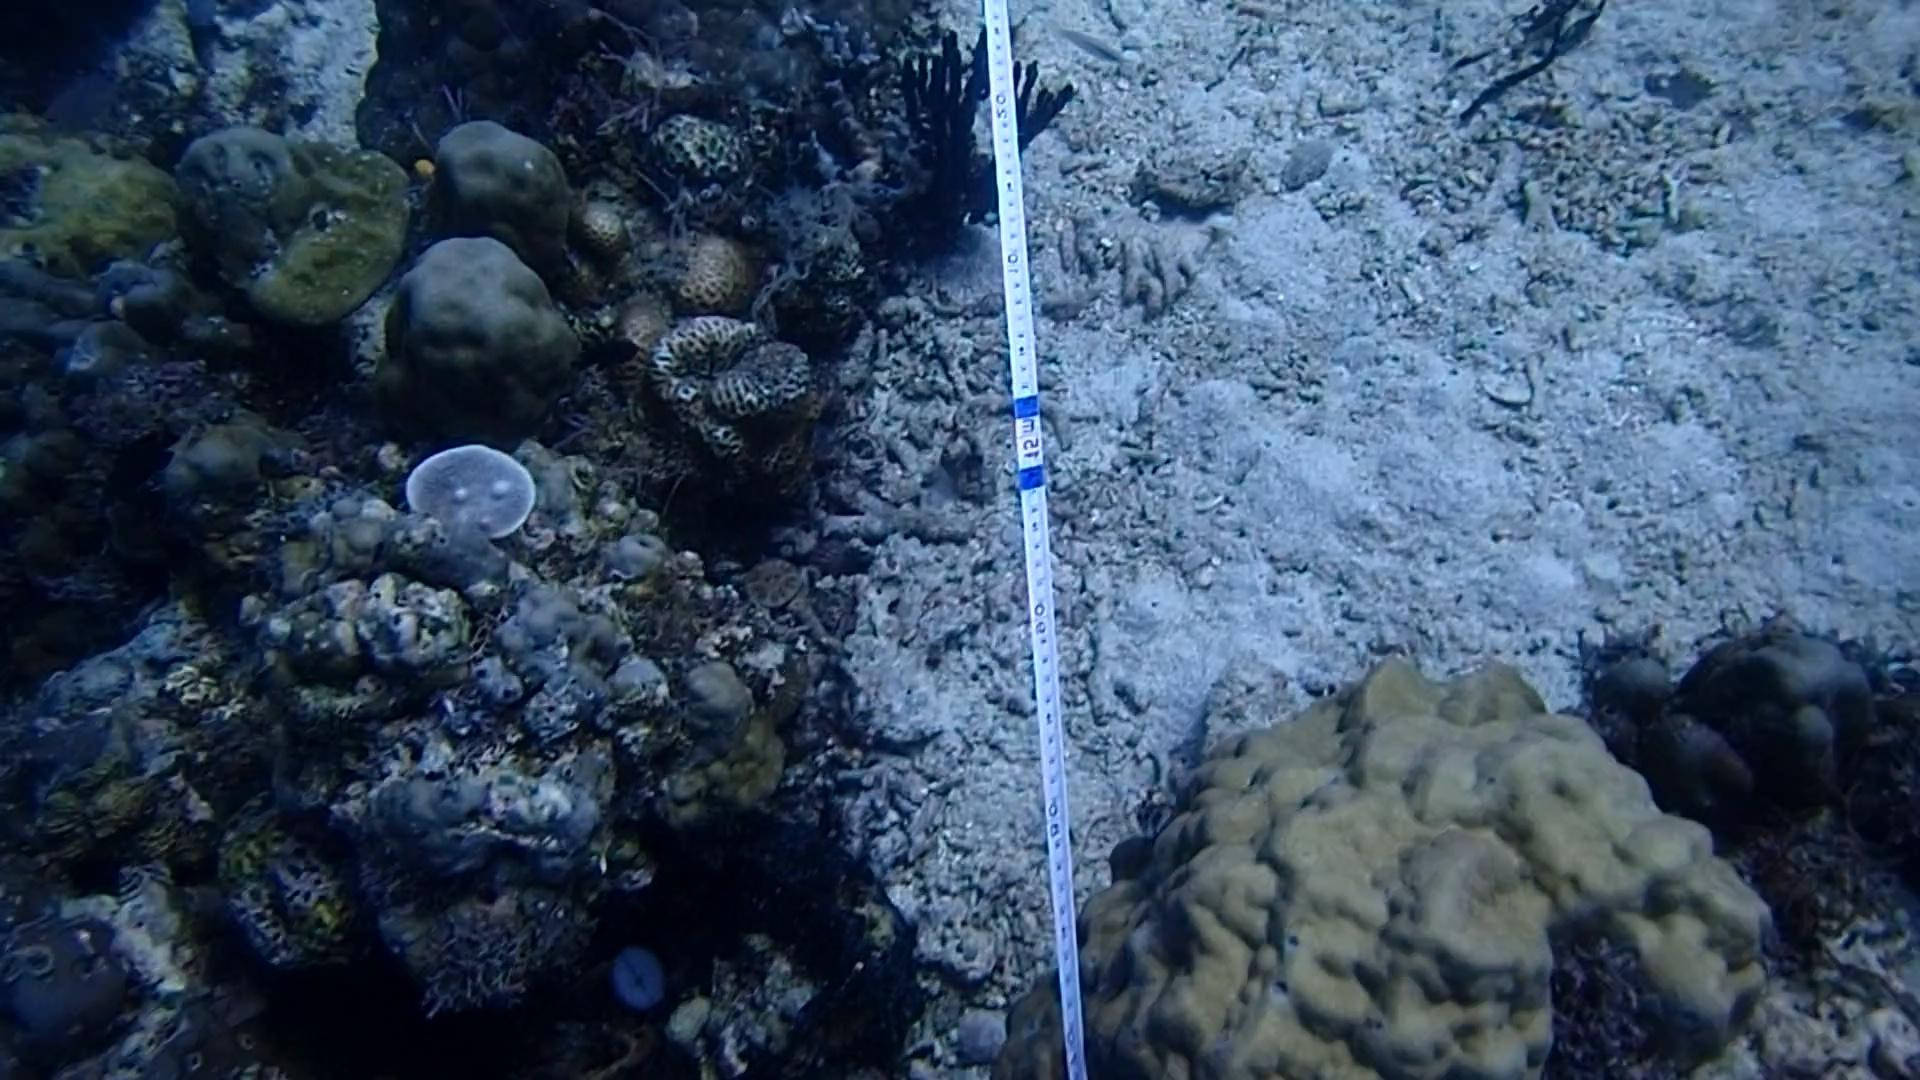Dark Fish: (571, 315, 662, 380)
